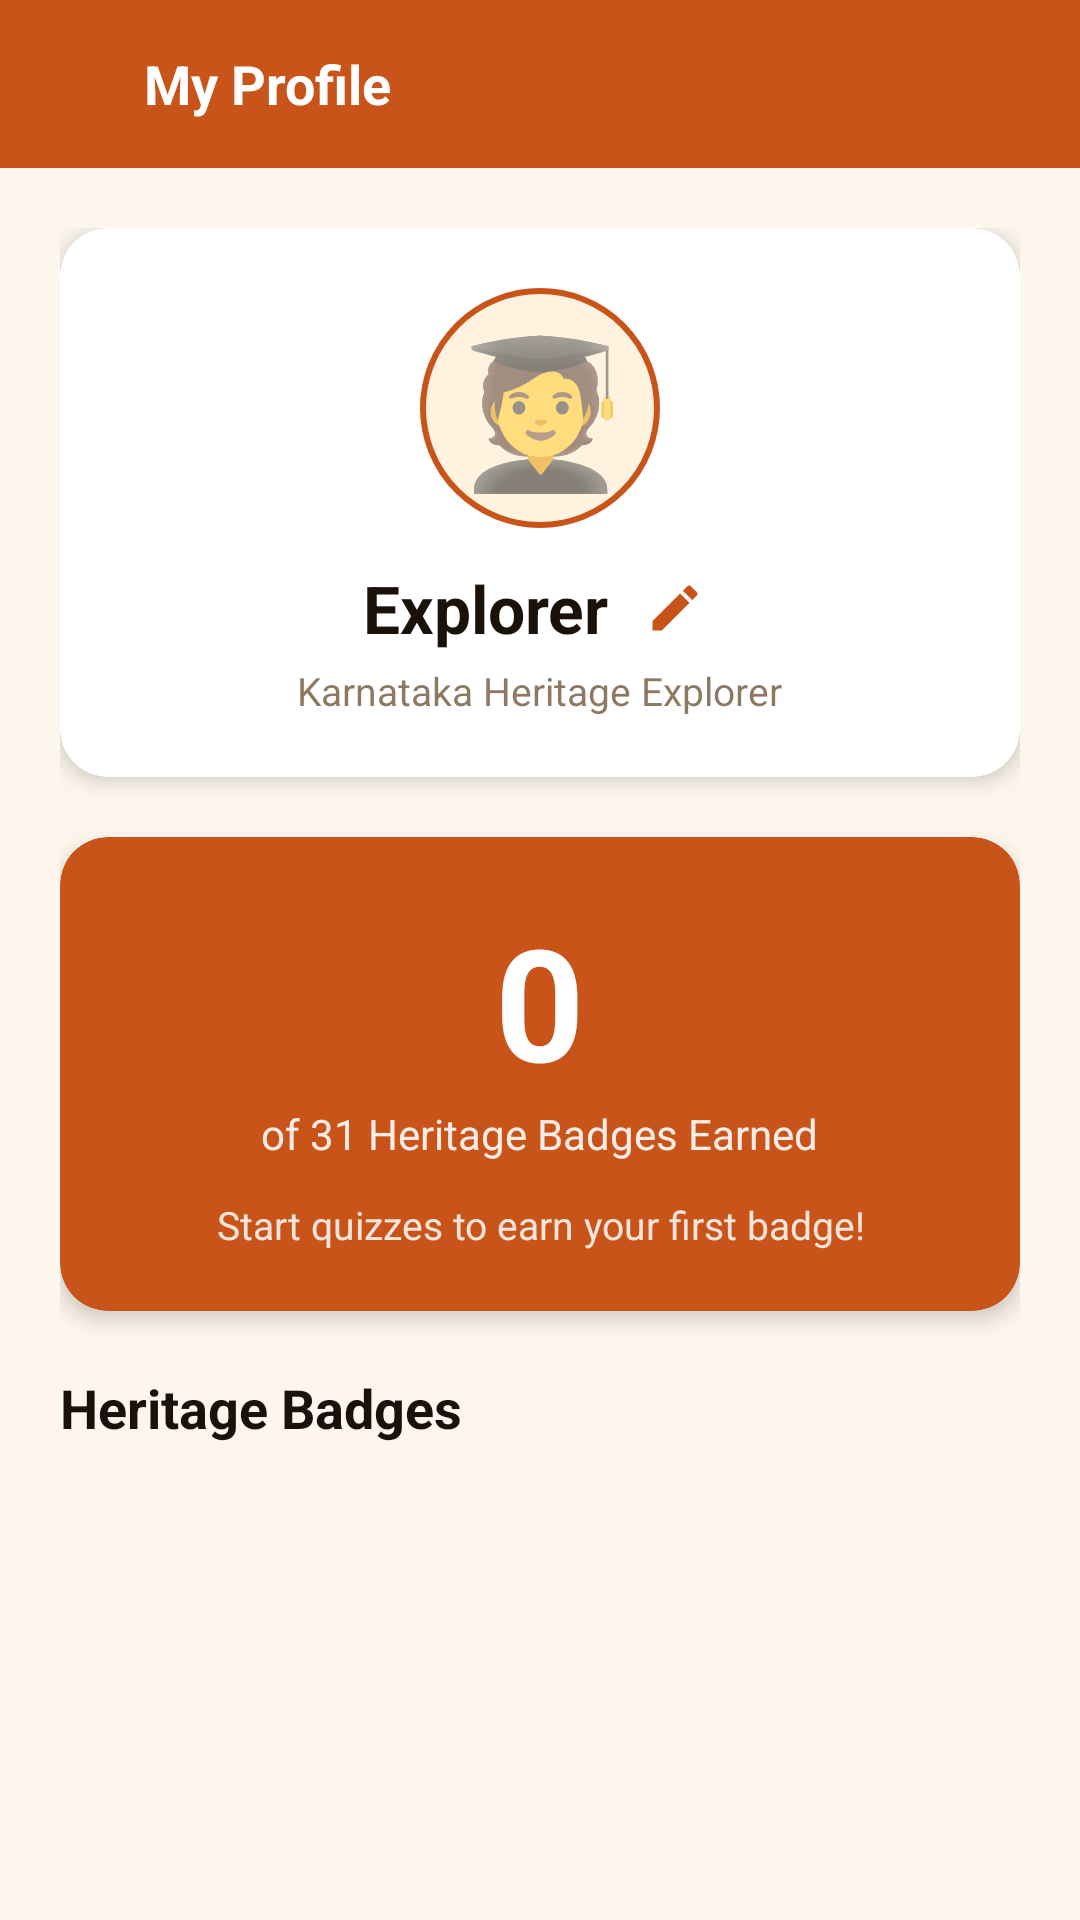

Where icons sit on this 1080*1920 app screen, as [left=x1, top=y1, right=x2, bottom=y2]:
Edit name: [left=652, top=585, right=698, bottom=631]
